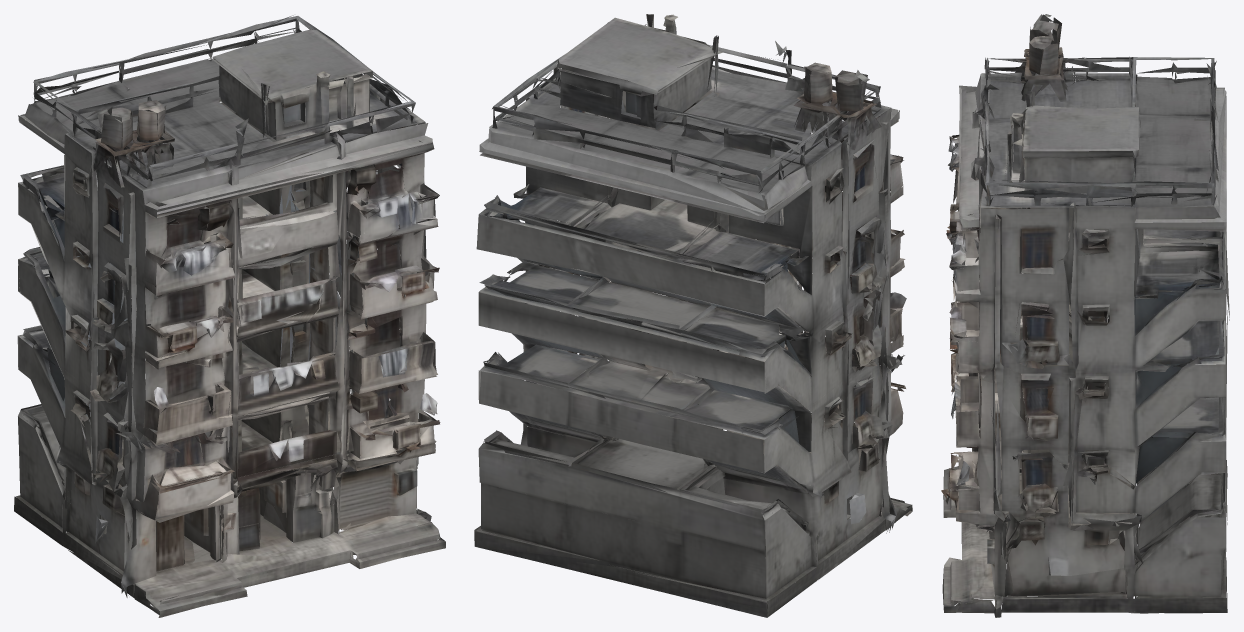
File: flat.glb
3 renders of one model, left to right at view 1: azimuth 30°, elevation 25°; view 2: azimuth 150°, elevation 25°; view 3: azimuth 270°, elevation 25°, orthographic. The views are drawn at different scales.
Visible parts, largest first — view 1: FlatModule; view 2: FlatModule; view 3: FlatModule.
Boxes of the visible parts, left/top/right/bottom form: FlatModule: left=14, top=15, right=445, bottom=617; FlatModule: left=474, top=14, right=912, bottom=617; FlatModule: left=941, top=14, right=1229, bottom=617.
Bounding box in the file's own units: 0.4634 × 0.6582 × 0.3692.
Materials: 1 (1 with a texture image).
